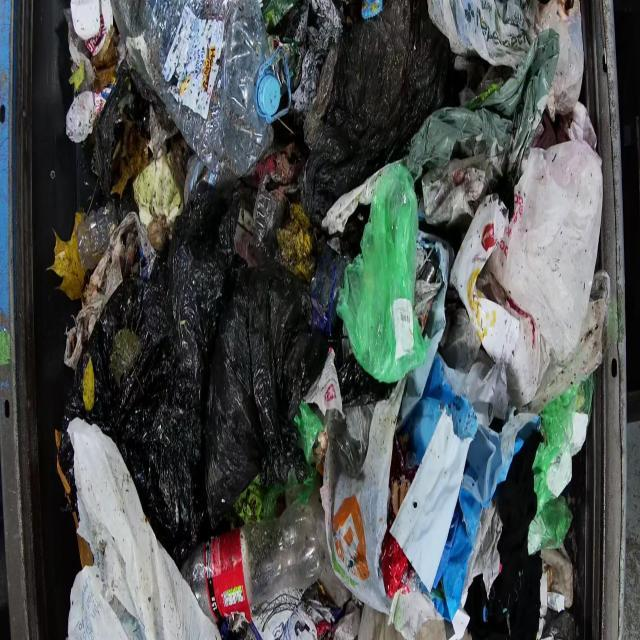cardboard: (43, 0, 615, 639)
cups: (253, 49, 294, 124)
